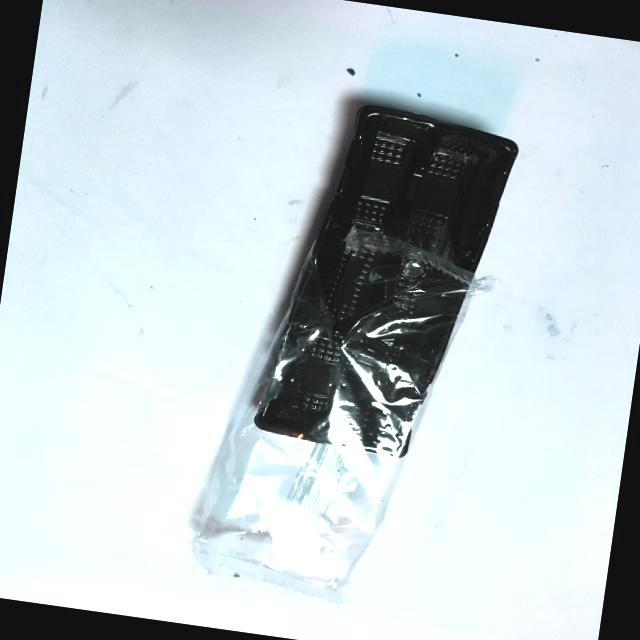plastic: (151, 58, 544, 630)
